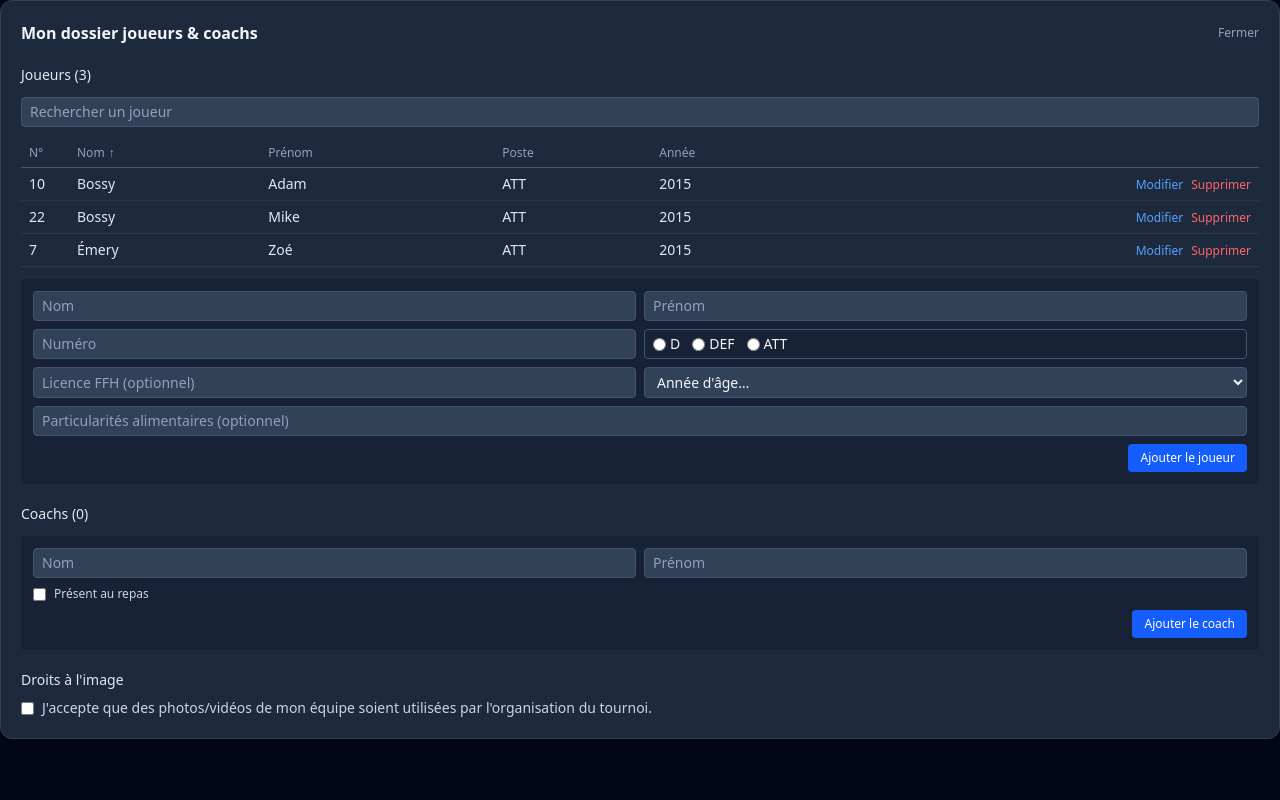
DossierPanel › tableau des joueurs (backlog 1) › « Modifier » pré-remplit le formulaire et y place le focus
The width and height of the screenshot is (1280, 800).
Check: the heading "Joueurs (3)" is shown, box [21,65,91,84]
Click the button with aria-label "Modifier Mike Bossy" at (1160, 218), box [1136,210,1183,226]
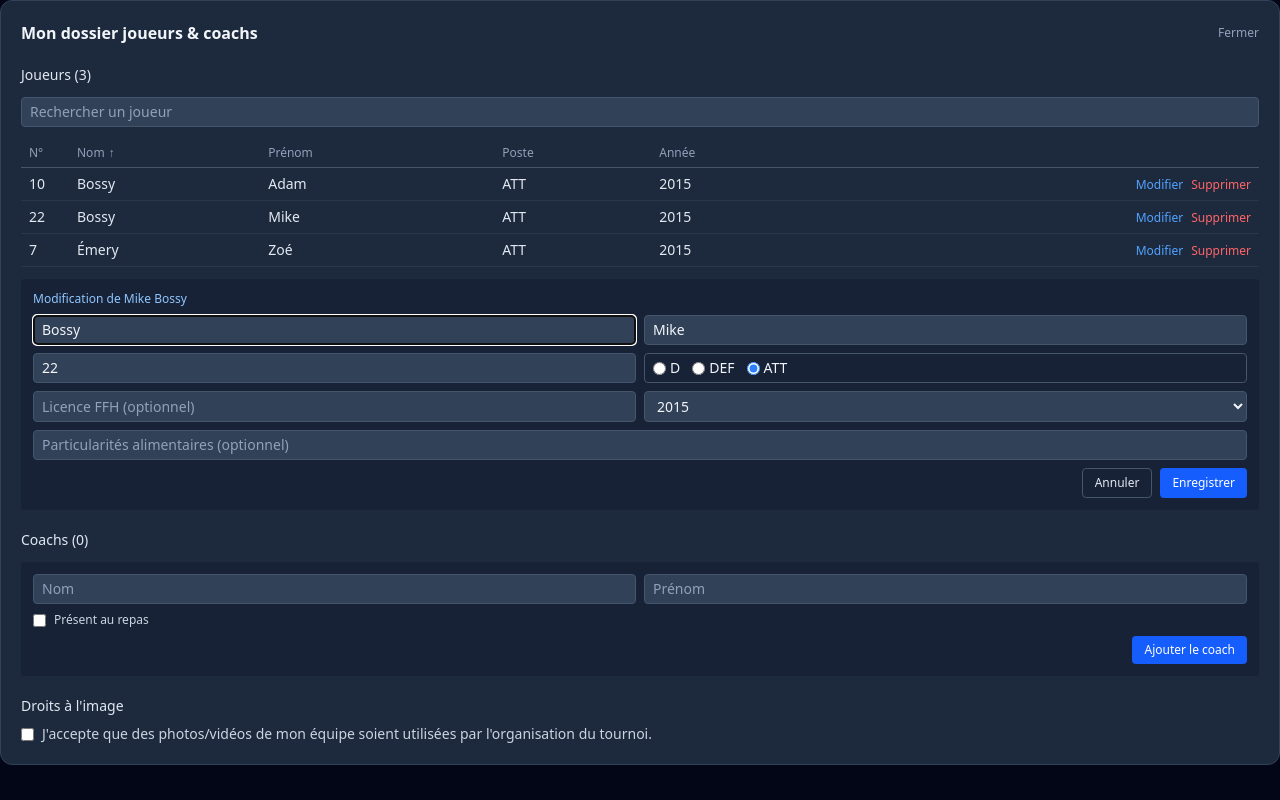
Check: the 1st field with placeholder "Nom" holds "Bossy", box [33,315,636,345]
Check: the text "Modification de Mike Bossy" is shown, box [33,290,187,307]
